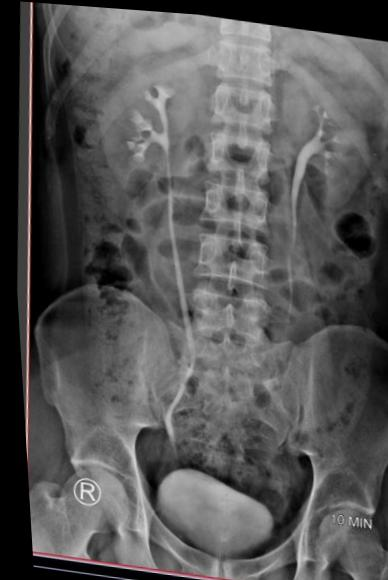bladder: (127, 458, 273, 574)
left kidney: (261, 38, 382, 218)
right kidney: (73, 33, 203, 207)
vertebrae: (201, 75, 269, 131)
